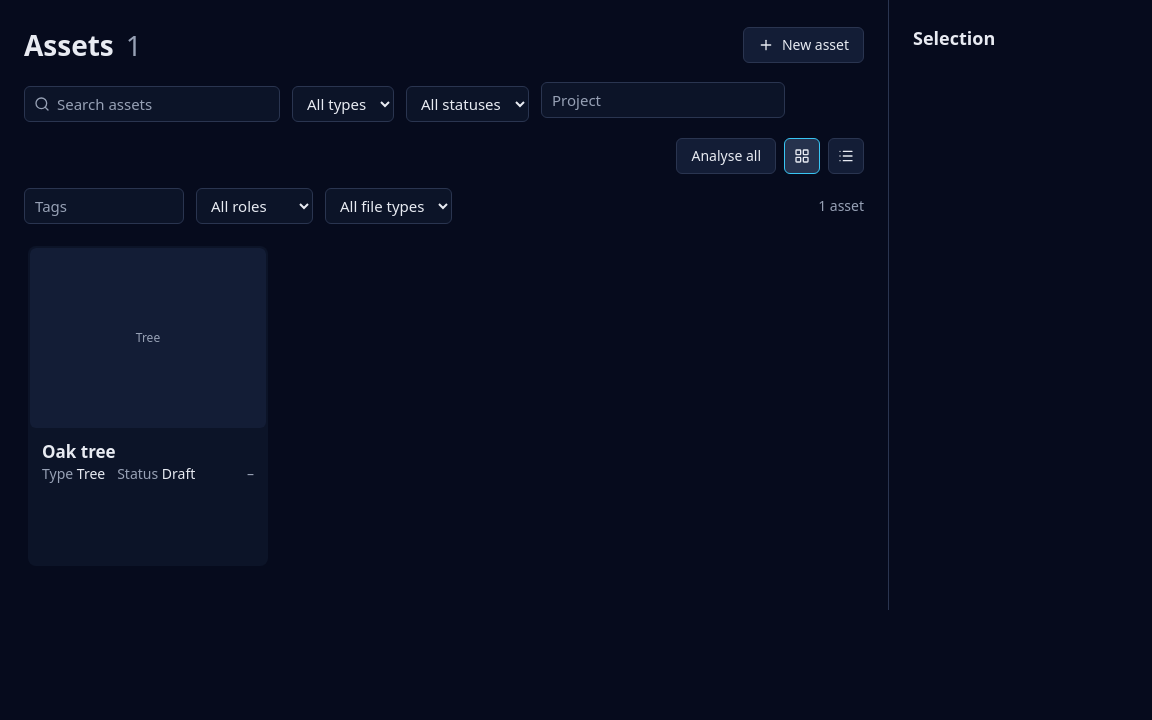
Scenario: typing searches after 250 ms and old tiles stay until the new page arrives
Expected: the text "Oak tree" is shown, left=42, top=440, right=116, bottom=463
Expected: the heading "Assets 1" is shown, left=24, top=24, right=142, bottom=66
Type "p" into the search field labelled "Search assets" at (152, 104), box left=24, top=86, right=280, bottom=122
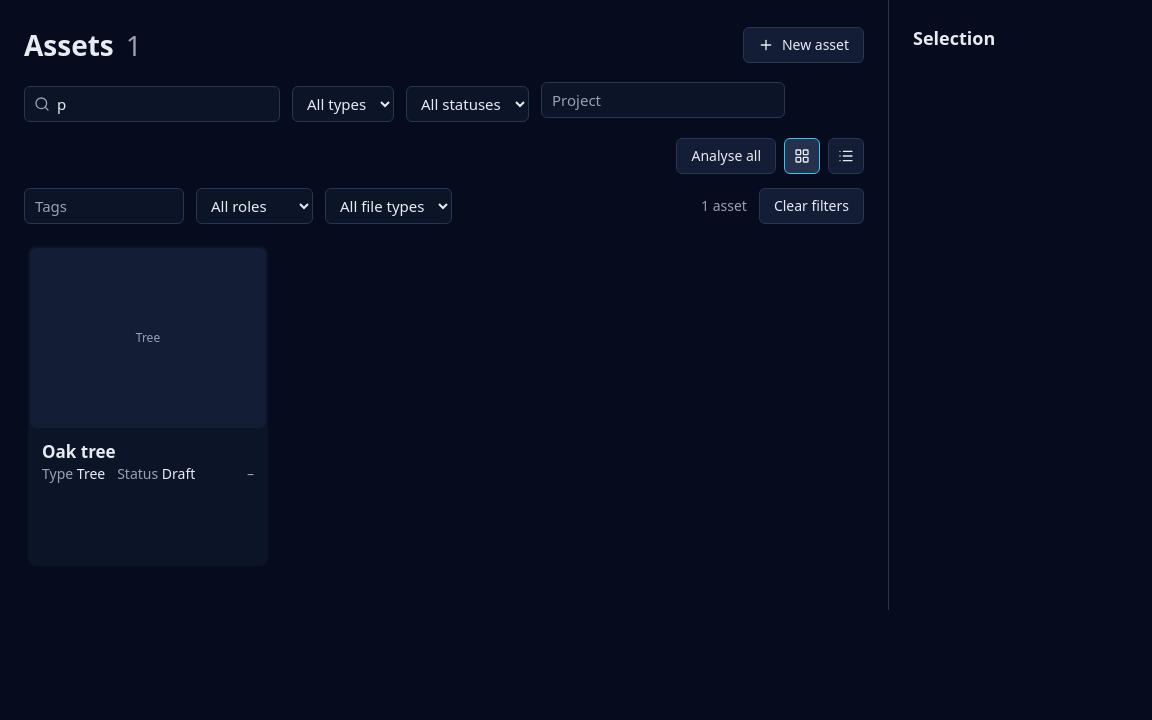
Replace the text in the search field named "Search assets" with "pi" at (152, 104), box left=24, top=86, right=280, bottom=122
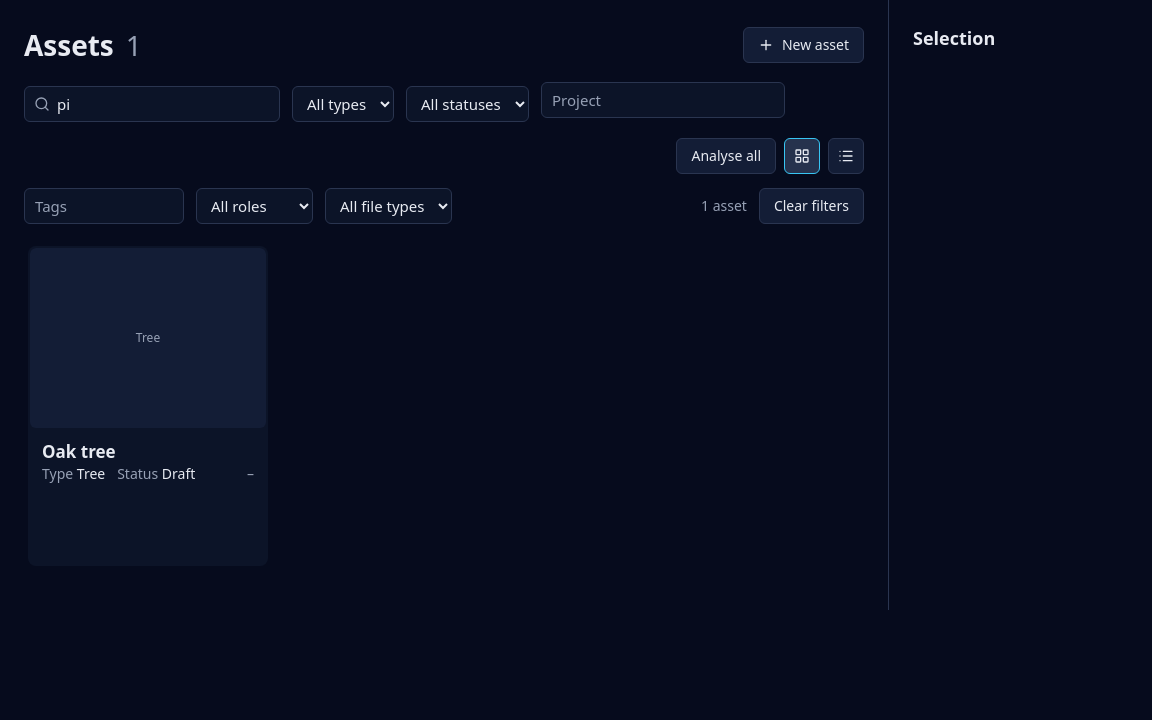
Replace the text in the search field named "Search assets" with "pin" at (152, 104), box left=24, top=86, right=280, bottom=122
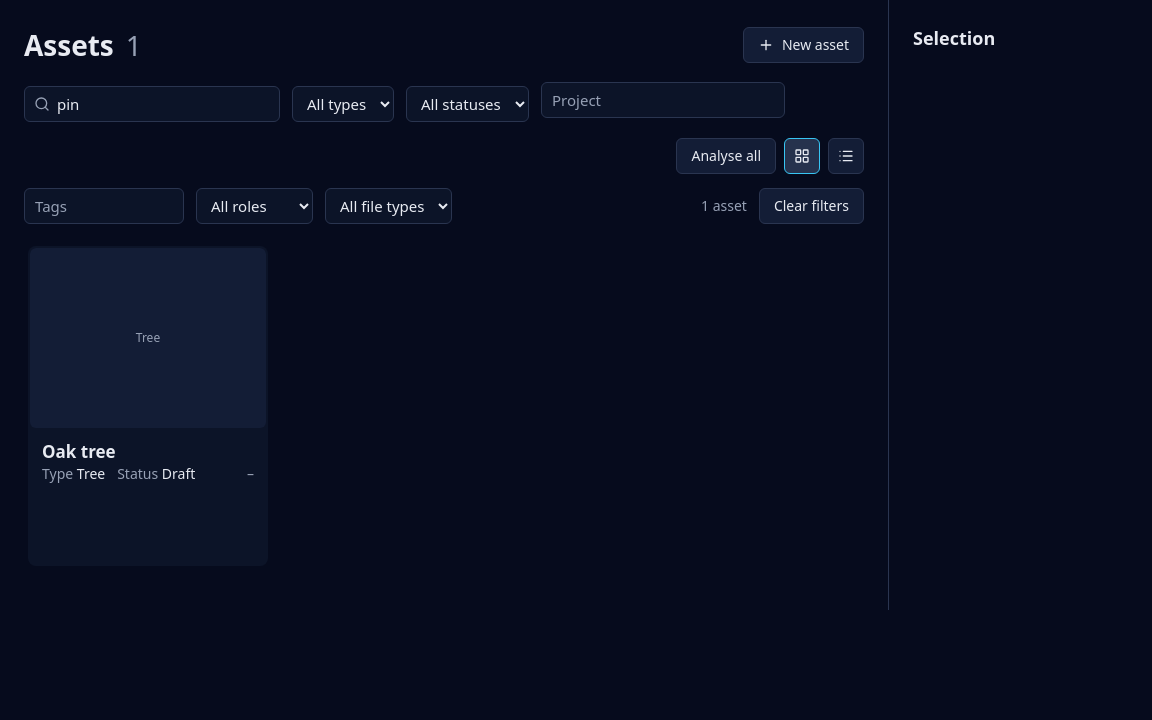
Replace the text in the search field named "Search assets" with "pine " at (152, 104), box left=24, top=86, right=280, bottom=122
Wait 250 ms
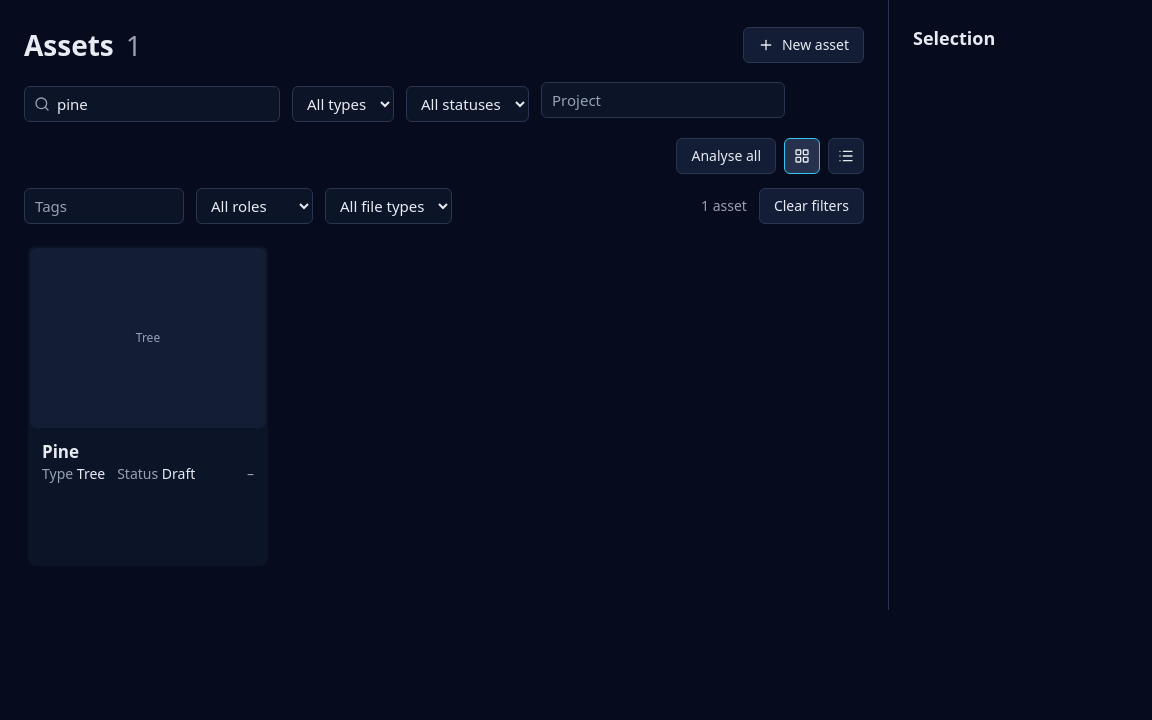
Now the text "Pine" is shown, box left=42, top=440, right=79, bottom=463
Now the text "Oak tree" is gone
